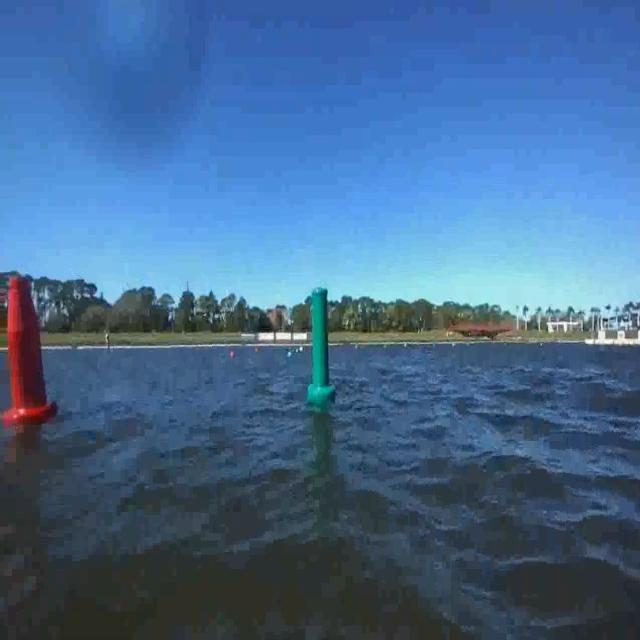green-column-buoy: (308, 286, 336, 402)
red-column-buoy: (1, 275, 54, 424)
